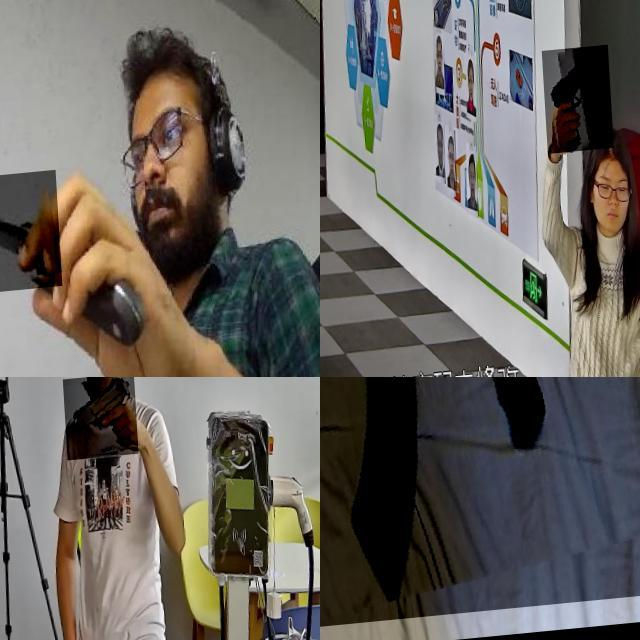-: (0, 175, 60, 300)
gun-knife-thesis - v11 Yolov5 augmented: (320, 377, 640, 640), (538, 54, 609, 162), (60, 382, 134, 468)
